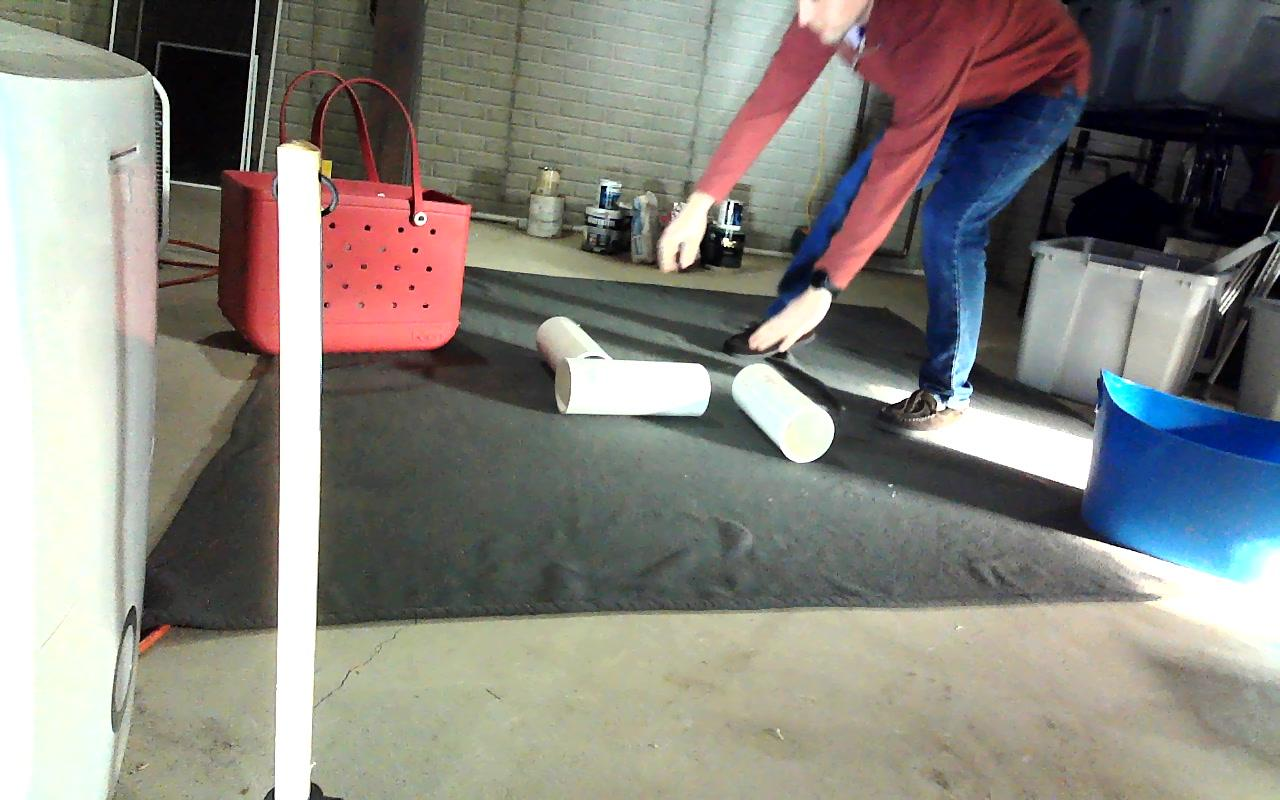coral: (731, 361, 833, 462), (552, 358, 711, 417), (536, 317, 609, 364)
